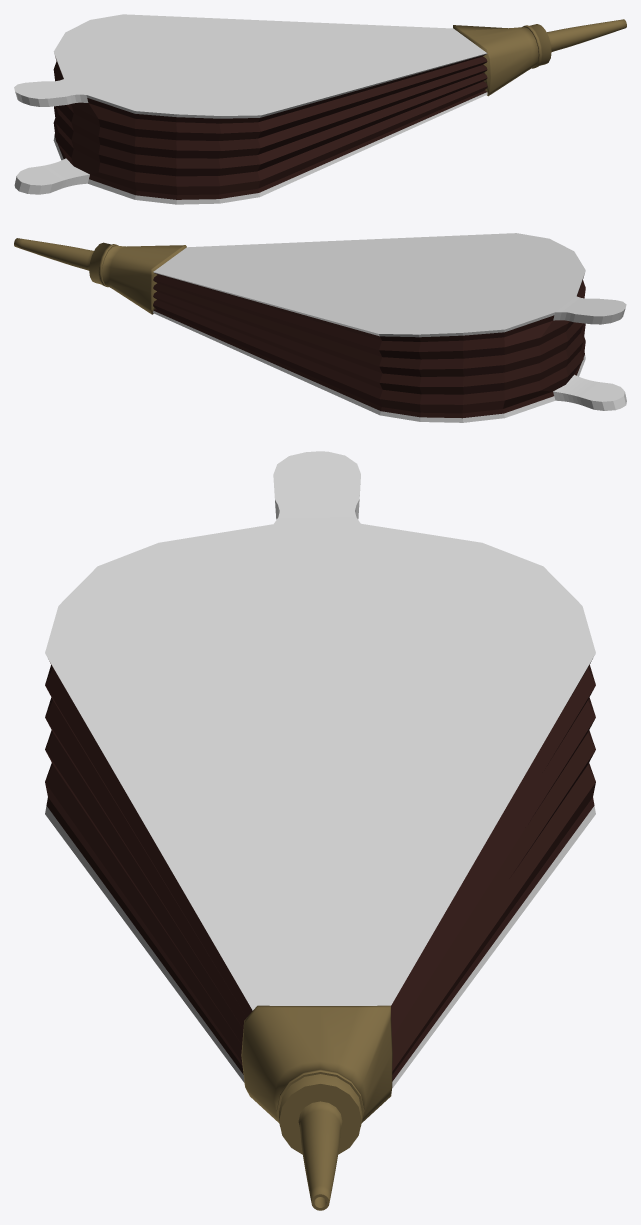
File: Bellows.fbx
3 views of the same model, one above another, from view 1: azimuth 30°, elevation 25°; view 2: azimuth 150°, elevation 25°; view 3: azimuth 270°, elevation 25° (orthographic). The views are drawn at different scales.
Parts seen in each view (by area): view 1: Bellows; view 2: Bellows; view 3: Bellows.
Part boxes in pixels (box(x1,y1,x2,y2)): Bellows: box(14, 14, 626, 204); Bellows: box(14, 233, 626, 422); Bellows: box(45, 451, 595, 1210).
Bounding box in the file's own units: 1.11 × 0.1776 × 0.437.
